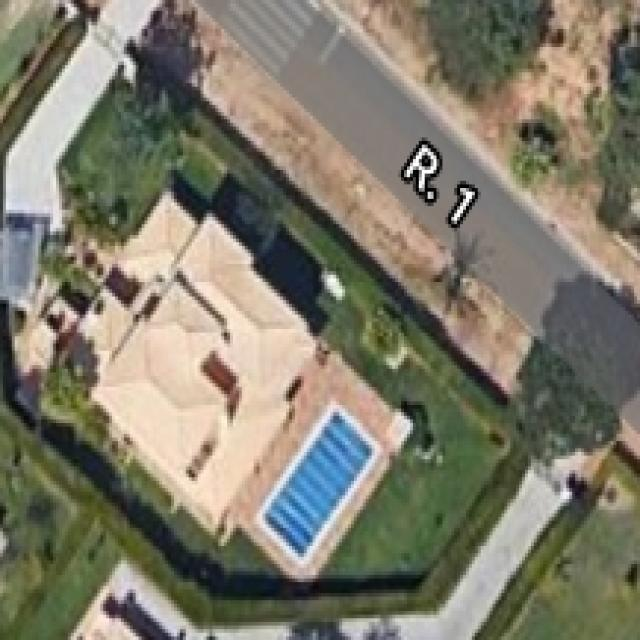pool: (227, 382, 414, 588)
